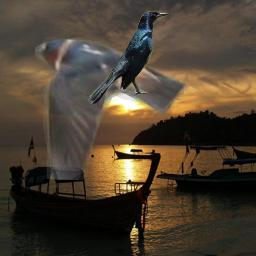Crow: (88, 10, 169, 105)
Swallow: (35, 32, 190, 180)
